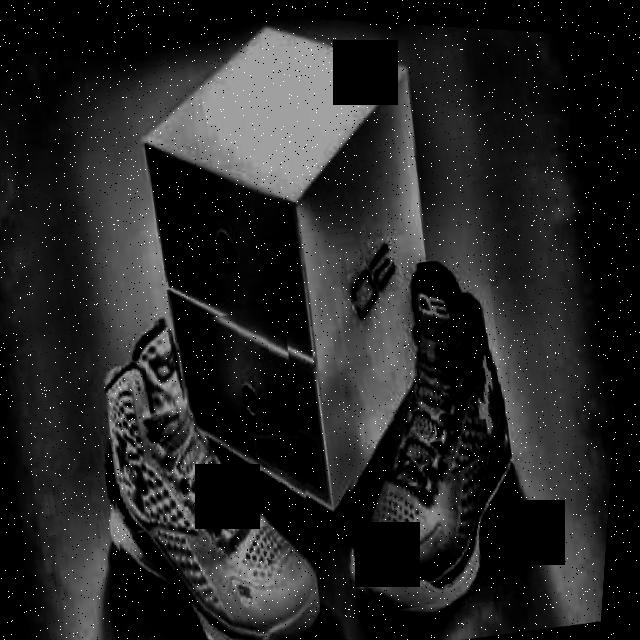shoe: (74, 290, 351, 640), (301, 240, 555, 620)
